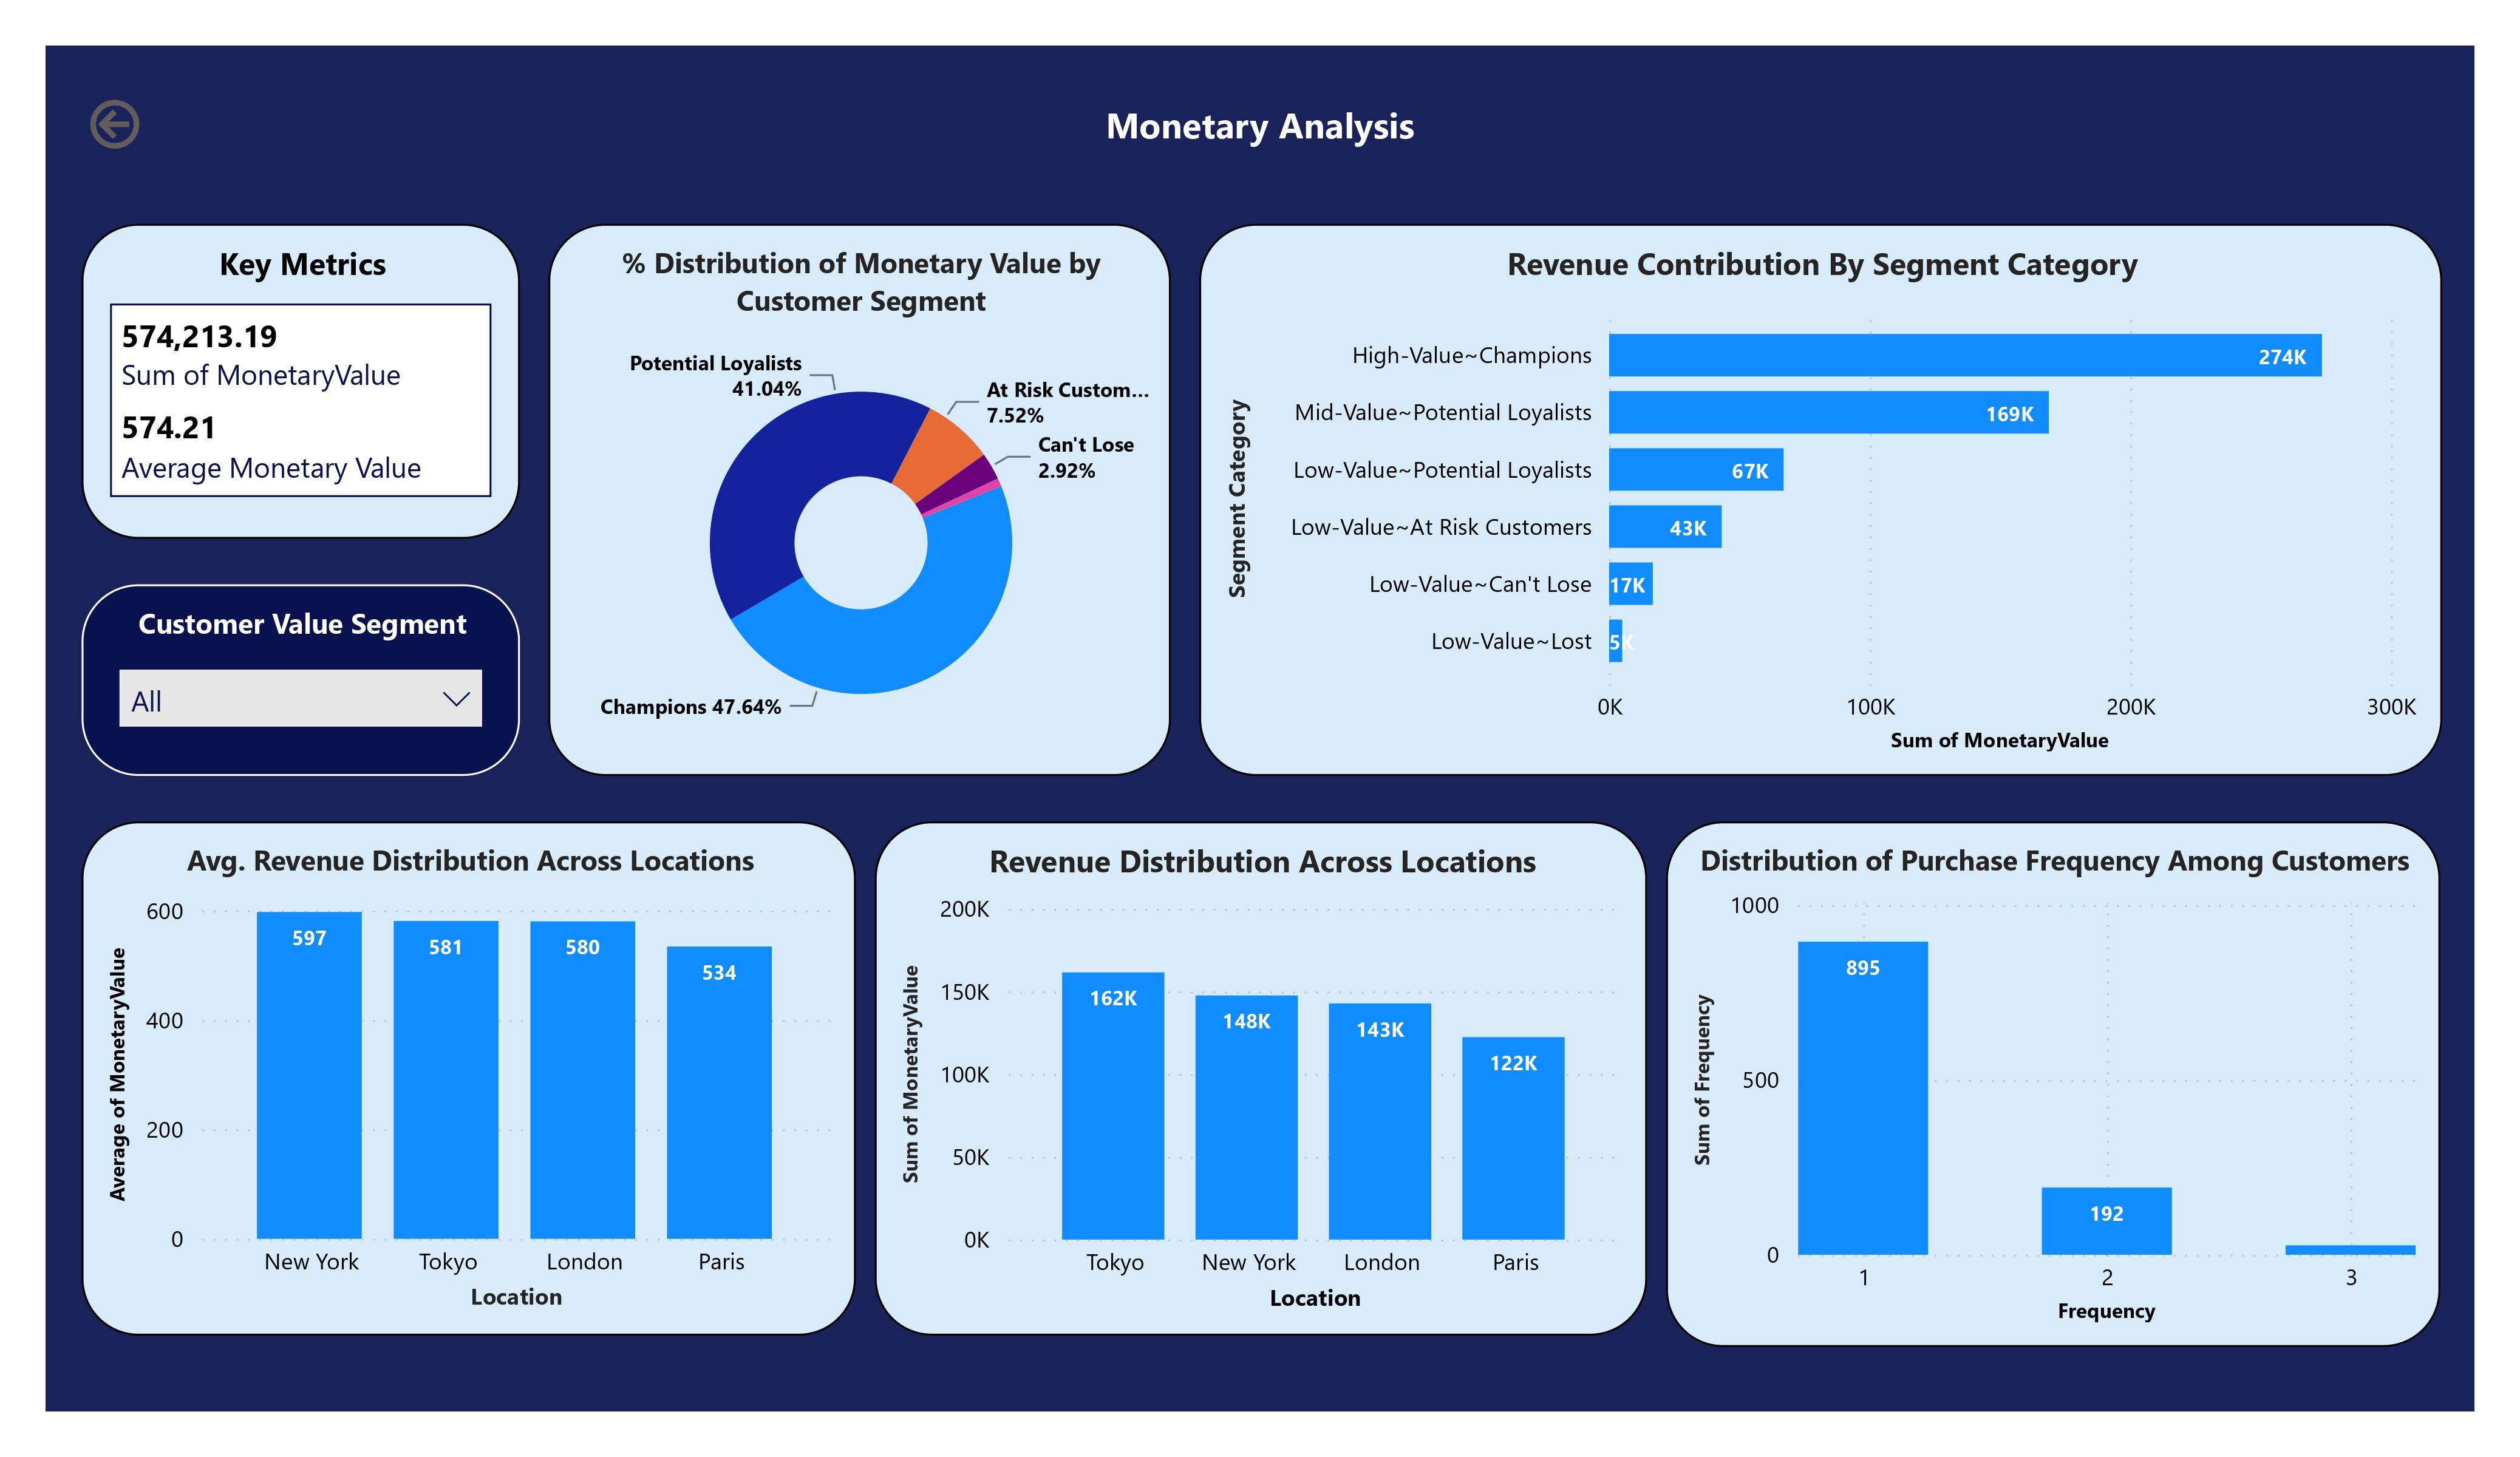

Layout of this report page (visuals, bound fields, positions):
{"tool":"powerbi","page":{"name":"Monetary Anaylsis","canvas":[1280,720],"ordinal":1},"visuals":[{"type":"donutChart","title":"% Distribution of Monetary Value by Customer Segment","fields":{"Category":["rfm_table.RFM Customer Segments"],"Y":["Sum(rfm_table.MonetaryValue)"]},"box":[265,93.8,327.5,291.2],"z":0},{"type":"barChart","title":"Revenue Contribution By Segment Category","fields":{"Category":["rfm_table.Segment Category"],"Y":["Sum(rfm_table.MonetaryValue)"]},"box":[607.5,93.8,655,291.2],"z":1000},{"type":"columnChart","title":"Distribution of Purchase Frequency Among Customers","fields":{"Category":["rfm_table.Frequency"],"Y":["Sum(rfm_table.Frequency)"]},"box":[854.4,408.9,407.8,276.7],"z":2000},{"type":"columnChart","title":"Revenue Distribution Across Locations","fields":{"Category":["rfm_table.Location"],"Y":["Sum(rfm_table.MonetaryValue)"]},"box":[436.7,408.9,407.8,271.1],"z":3000},{"type":"columnChart","title":"Avg. Revenue Distribution Across Locations","fields":{"Category":["rfm_table.Location"],"Y":["Avg(rfm_table.MonetaryValue)"]},"box":[19,409.4,408.2,270.1],"z":4000},{"type":"multiRowCard","title":"Key Metrics","fields":{"Values":["Sum(rfm_table.MonetaryValue)","Avg(rfm_table.MonetaryValue)"]},"box":[18.8,93.8,231.2,166.2],"z":5000},{"type":"slicer","title":"Customer Value Segment","fields":{"Values":["rfm_table.Value Segment"]},"box":[18.8,283.8,231.2,101.2],"z":6000},{"type":"actionButton","box":[18.8,23.8,56.2,35],"z":7000},{"type":"textbox","box":[490,23.8,300,51.2],"z":8000}]}

Visuals, with their boxes in screenshot pixels (x1, y1, x2, y2):
"% Distribution of Monetary Value by Customer Segment" donutChart: pyautogui.locateOnScreen(548, 223, 1170, 776)
"Revenue Contribution By Segment Category" barChart: pyautogui.locateOnScreen(1198, 223, 2441, 776)
"Distribution of Purchase Frequency Among Customers" columnChart: pyautogui.locateOnScreen(1667, 821, 2440, 1346)
"Revenue Distribution Across Locations" columnChart: pyautogui.locateOnScreen(874, 821, 1648, 1336)
"Avg. Revenue Distribution Across Locations" columnChart: pyautogui.locateOnScreen(81, 822, 856, 1334)
"Key Metrics" multiRowCard: pyautogui.locateOnScreen(81, 223, 520, 539)
"Customer Value Segment" slicer: pyautogui.locateOnScreen(81, 584, 520, 776)
actionButton: pyautogui.locateOnScreen(81, 90, 188, 157)
textbox: pyautogui.locateOnScreen(975, 90, 1545, 188)
